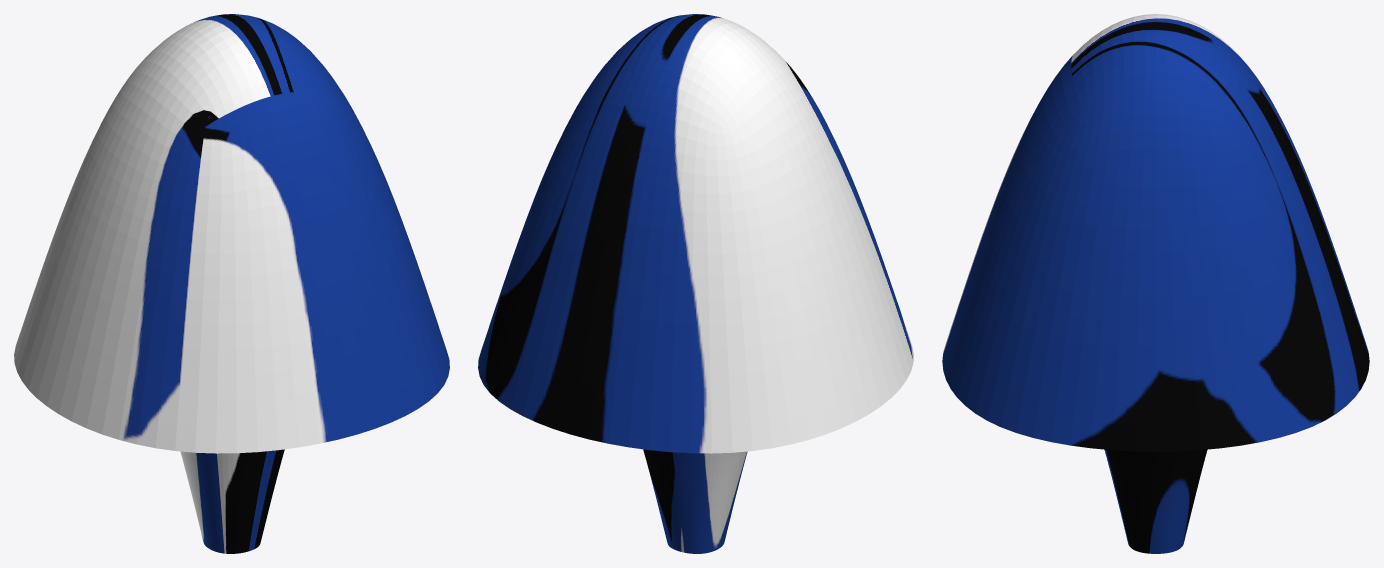
File: light.obj
3 renders of one model, left to right at view 1: azimuth 30°, elevation 25°; view 2: azimuth 150°, elevation 25°; view 3: azimuth 270°, elevation 25°, orthographic.
Parts seen in each view (by area): view 1: Cube; view 2: Cube; view 3: Cube.
Part boxes in pixels (bbox=[...]): Cube: bbox=[14, 14, 449, 553]; Cube: bbox=[478, 14, 913, 553]; Cube: bbox=[942, 14, 1369, 553].
Bounding box in the file's own units: 1.41 × 1.89 × 1.41.
Materials: 1 (1 with a texture image).
